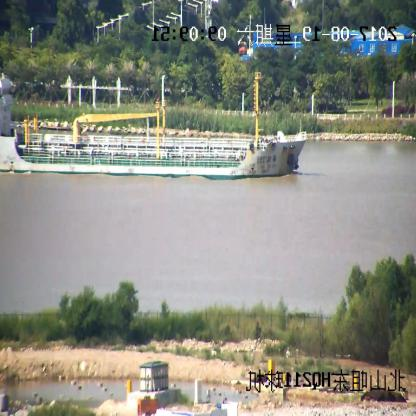Bulk Carrier: (1, 81, 307, 177)
